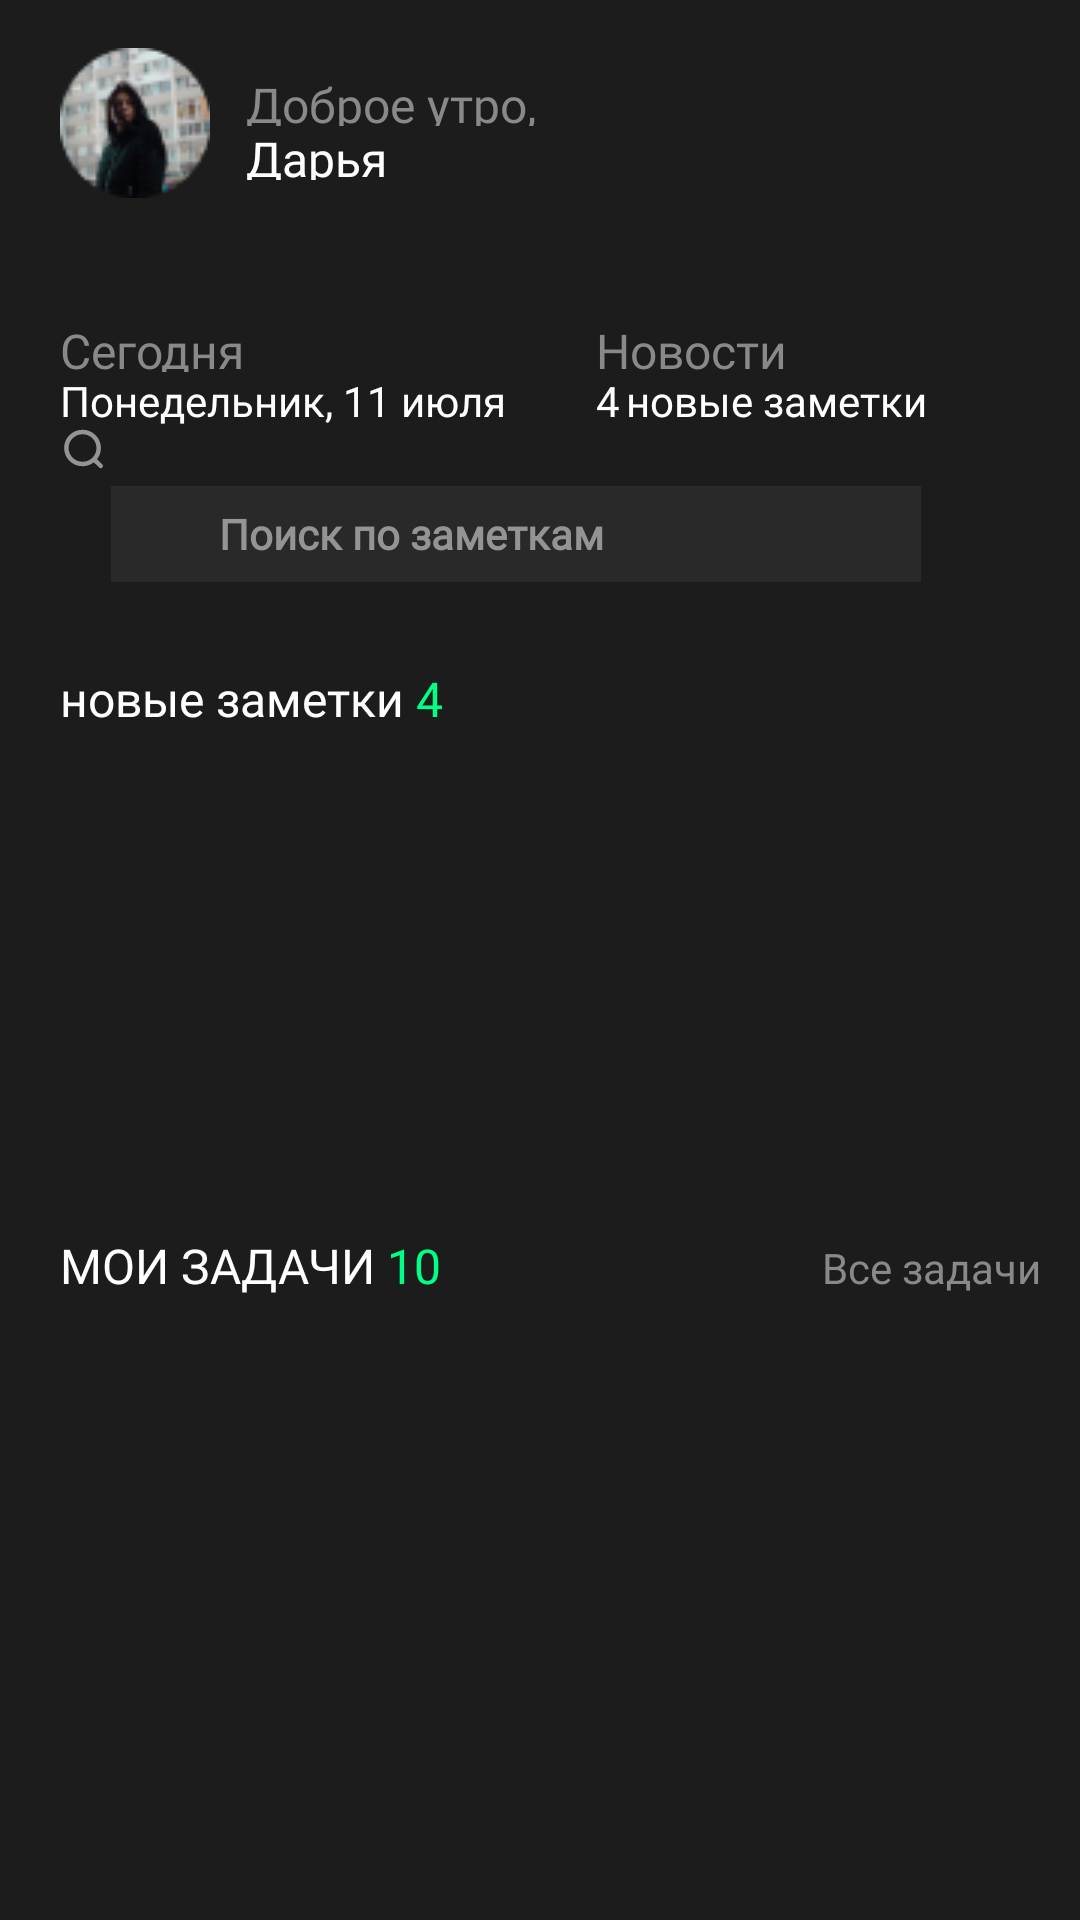

Icon bounding boxes for this 1080w x 1920h phone screenshot, format (x1, y1, x2, y2):
photo: (60, 48, 210, 192)
search: (64, 429, 103, 469)
